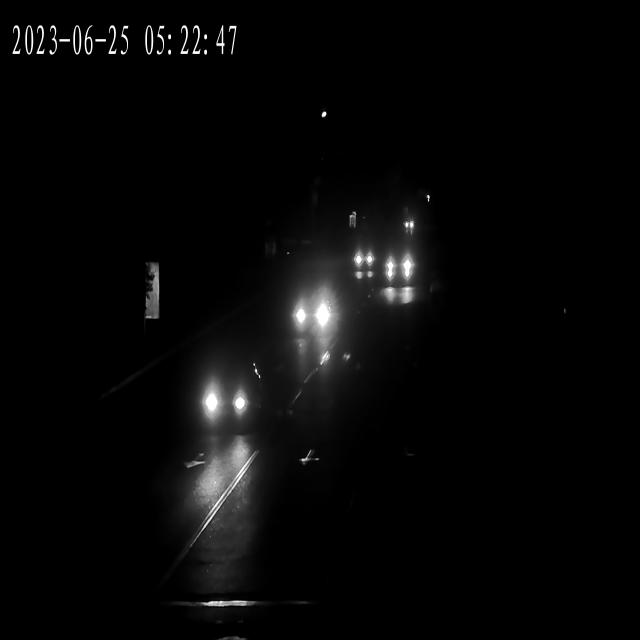Car: (202, 350, 260, 440), (292, 281, 338, 335), (384, 248, 415, 289), (355, 237, 378, 274), (404, 217, 417, 233)
